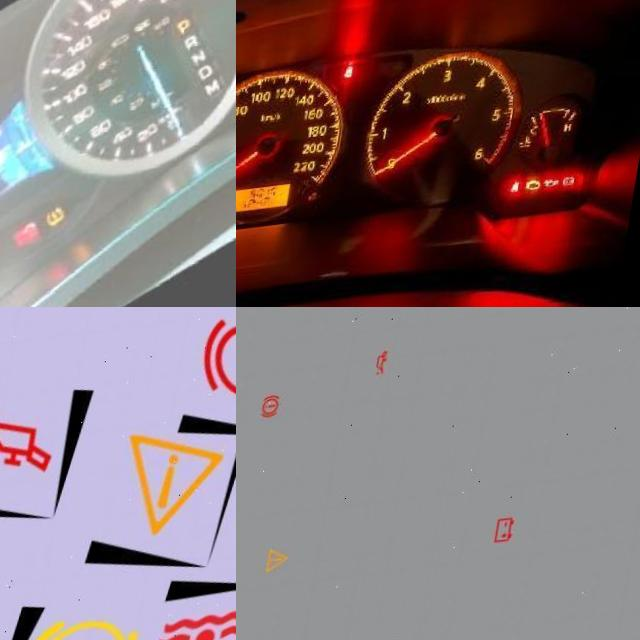High Engine Coolant Temperature: (531, 149, 545, 163)
